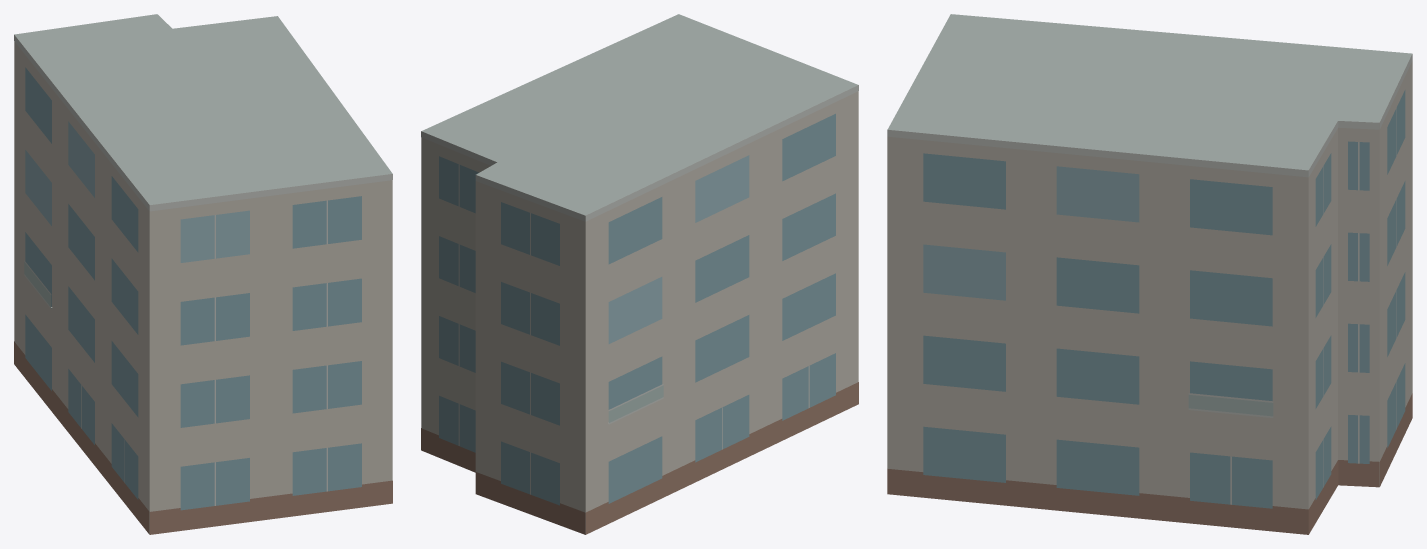
Rendered from survey-upis-32705031.glb.
3 views of the same model, side by side, from view 1: azimuth 30°, elevation 25°; view 2: azimuth 150°, elevation 25°; view 3: azimuth 270°, elevation 25° (orthographic). The views are drawn at different scales.
Visible parts, largest first — view 1: survey-upis-32705031.tmp; view 2: survey-upis-32705031.tmp; view 3: survey-upis-32705031.tmp.
Part boxes in pixels (x1,y1,x2,y2): survey-upis-32705031.tmp: (14,14,392,534); survey-upis-32705031.tmp: (421,14,858,534); survey-upis-32705031.tmp: (887,14,1412,534).
Bounding box in the file's own units: 11.79 × 12.8 × 16.72.
